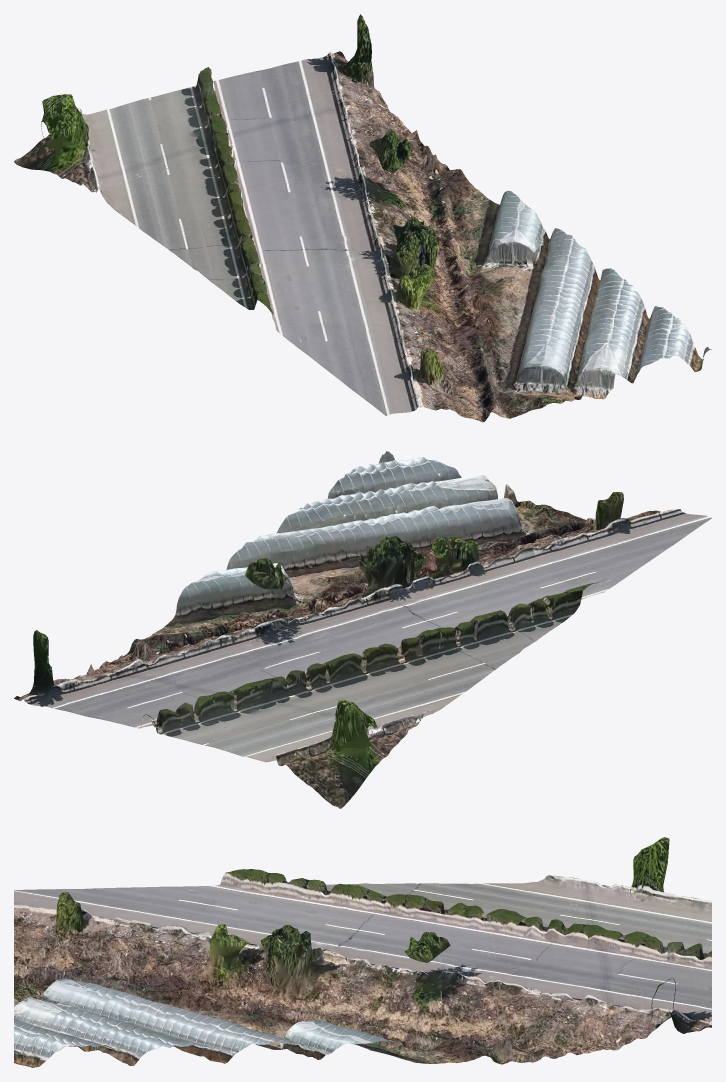
Rendered from BlockYB_L20_192.glb.
The picture shows the model from 3 angles, top to bottom: view 1: azimuth 30°, elevation 25°; view 2: azimuth 150°, elevation 25°; view 3: azimuth 270°, elevation 25°; orthographic projection. The views are drawn at different scales.
Visible parts, largest first — view 1: rtc; view 2: rtc; view 3: rtc.
Boxes of the visible parts, box(x1,y1,x2,y2) form: rtc: box(14, 14, 711, 422); rtc: box(14, 451, 711, 808); rtc: box(14, 837, 711, 1067).
Size of the model in its own units: 33.07 by 10.17 by 65.45.
4 materials, 4 textured.
